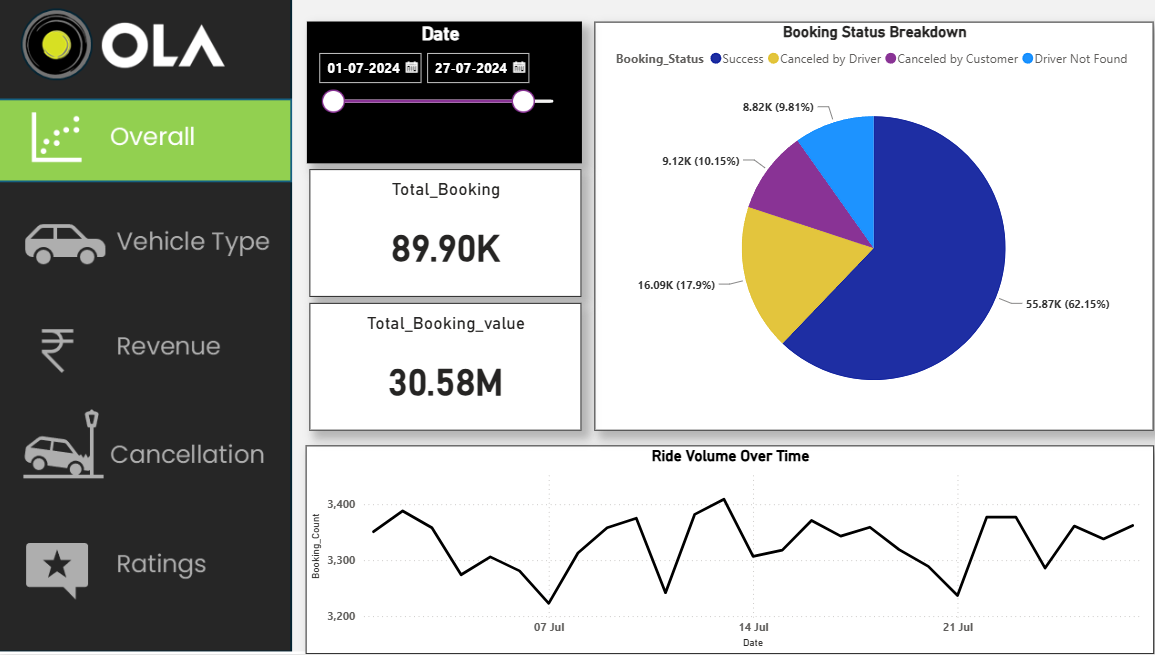

The page's visual inventory and layout, read from the dashboard file:
{"tool":"powerbi","page":{"name":"Overall","canvas":[1280,720],"ordinal":0},"visuals":[{"type":"actionButton","box":[0,309.5,323.5,103.2],"z":0},{"type":"actionButton","box":[0,206.3,323.5,103.2],"z":1000},{"type":"actionButton","box":[9.4,422,314.1,103.2],"z":2000},{"type":"actionButton","box":[0,553.3,314.1,103.2],"z":3000},{"type":"actionButton","box":[10,563.3,314.1,103.2],"z":4000},{"type":"lineChart","title":"Ride Volume Over Time","fields":{"Category":["Bookings.Date"],"Y":["CountNonNull(Bookings.Booking_ID)"]},"box":[338.6,491,931.2,228.6],"z":5000},{"type":"pieChart","title":"Booking Status Breakdown","fields":{"Category":["Bookings.Booking_Status"],"Y":["CountNonNull(Bookings.Booking_Status)"]},"box":[656.1,25.4,613.8,448.7],"z":6000},{"type":"slicer","title":"Date","fields":{"Values":["Bookings.Date"]},"box":[339.9,26.4,301.8,155.3],"z":7000},{"type":"card","title":" Total_Booking ","fields":{"Values":["CountNonNull(Bookings.Booking_ID)"]},"box":[342.9,188.4,298.4,139.7],"z":8000},{"type":"card","title":" Total_Booking_value ","fields":{"Values":["Sum(Bookings.Booking_Value)"]},"box":[342.9,334.4,298.4,139.7],"z":9000},{"type":"actionButton","box":[10,104.7,323.8,104.3],"z":10000},{"type":"actionButton","box":[10,216.3,323.5,103.2],"z":11000},{"type":"actionButton","box":[0,220.9,323.8,91.9],"z":12000}]}

Visuals, with their boxes in screenshot pixels (x1, y1, x2, y2), scaled from the page's 1280x720 canvas onto the 1155x655 screenshot:
actionButton: crop(0, 282, 292, 375)
actionButton: crop(0, 188, 292, 282)
actionButton: crop(8, 384, 292, 478)
actionButton: crop(0, 503, 283, 597)
actionButton: crop(9, 512, 292, 606)
"Ride Volume Over Time" lineChart: crop(306, 447, 1146, 654)
"Booking Status Breakdown" pieChart: crop(592, 23, 1146, 431)
"Date" slicer: crop(307, 24, 579, 165)
" Total_Booking " card: crop(309, 171, 579, 298)
" Total_Booking_value " card: crop(309, 304, 579, 431)
actionButton: crop(9, 95, 301, 190)
actionButton: crop(9, 197, 301, 291)
actionButton: crop(0, 201, 292, 285)
